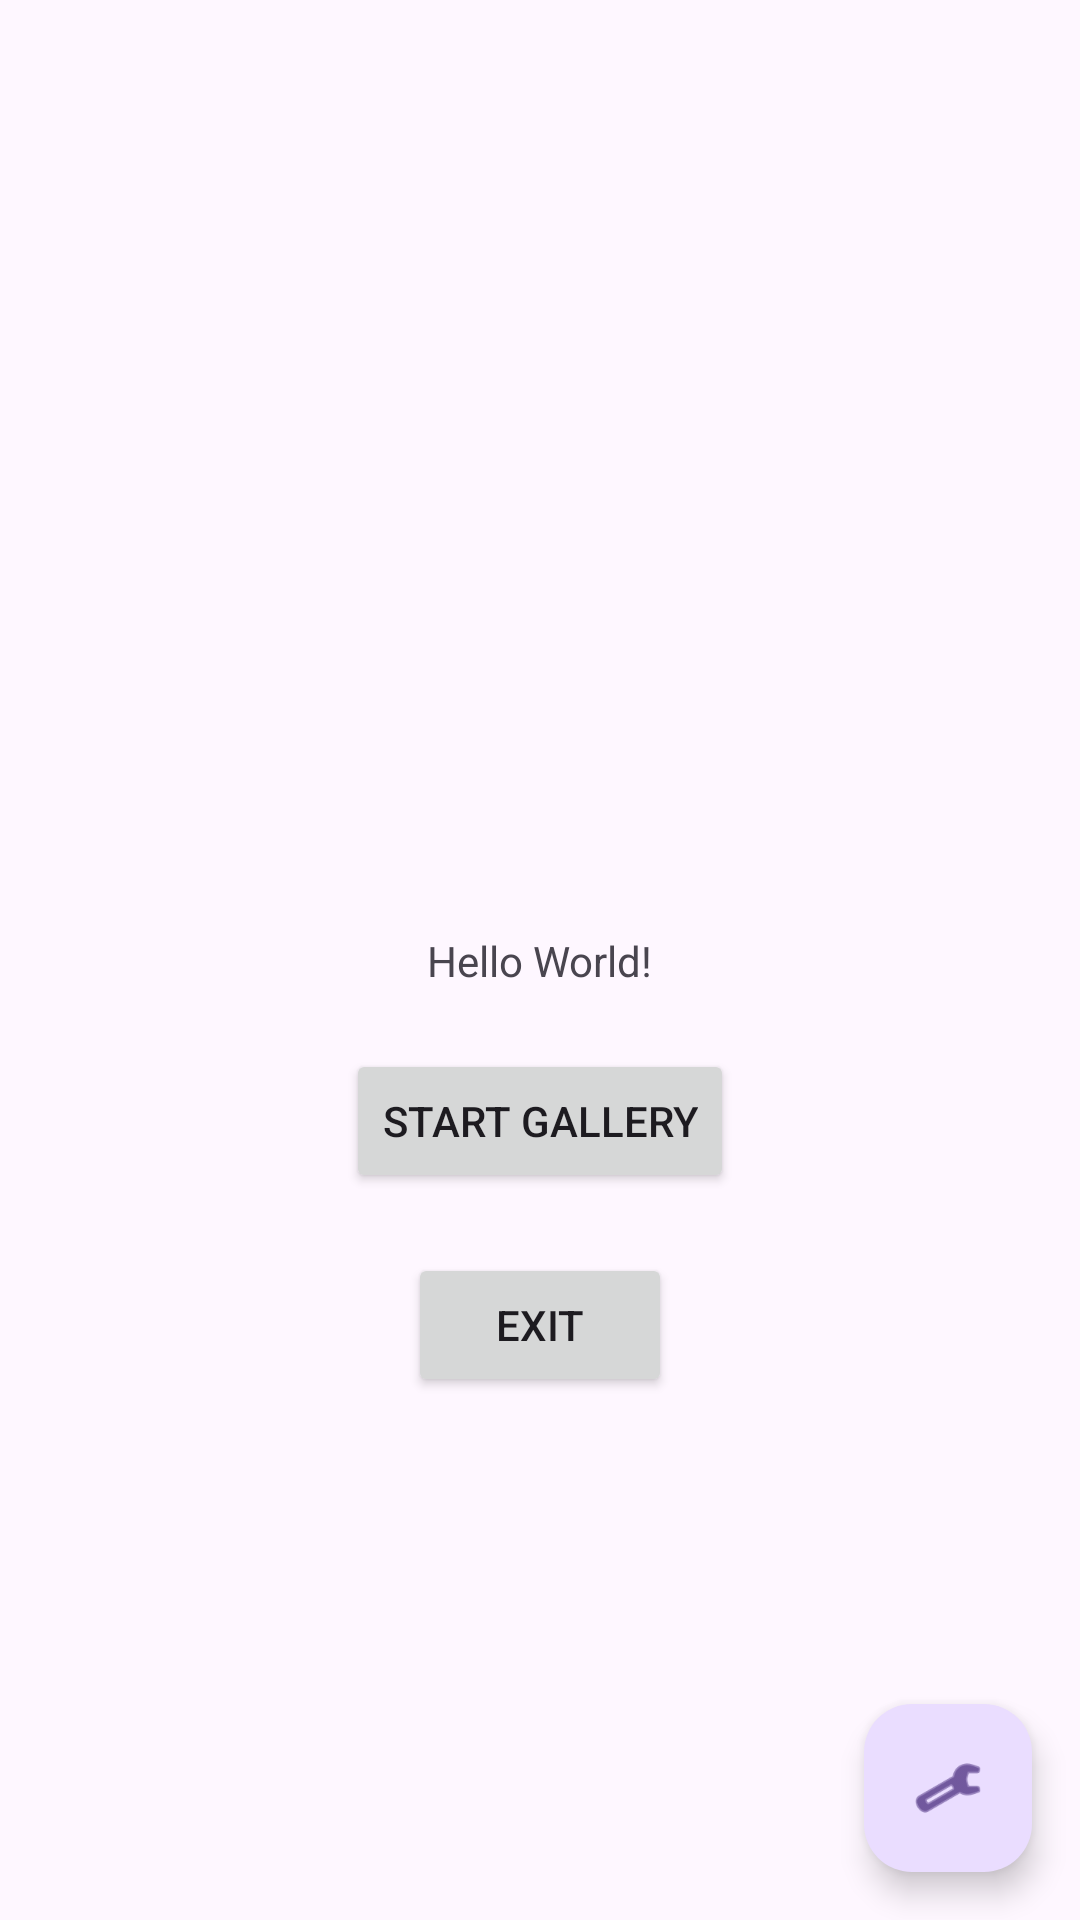

Named icons in this screenshot (1080px×1920px) and their bounding boxes, [x1,y1,x2,y2]:
Settings: [864,1704,1032,1872]
